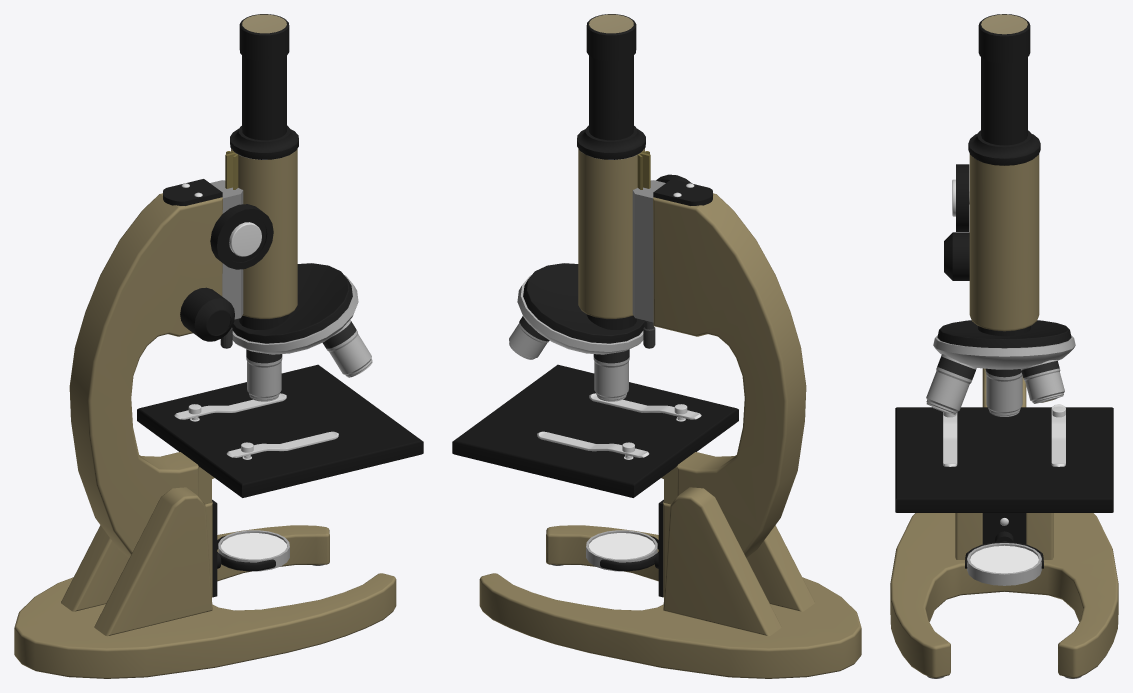
3 renders of one model, left to right at view 1: azimuth 30°, elevation 25°; view 2: azimuth 150°, elevation 25°; view 3: azimuth 270°, elevation 25°, orthographic. The views are drawn at different scales.
Visible parts, largest first — view 1: pCube20 (×10); view 2: pCube20 (×9); view 3: pCube20 (×9).
Boxes of the visible parts, x1=… form: pCube20 (×10): x1=14, y1=14, x2=423, y2=678; pCube20 (×9): x1=452, y1=14, x2=861, y2=678; pCube20 (×9): x1=890, y1=14, x2=1118, y2=678.
Size of the model in its own units: 1.26 by 2 by 0.682.
